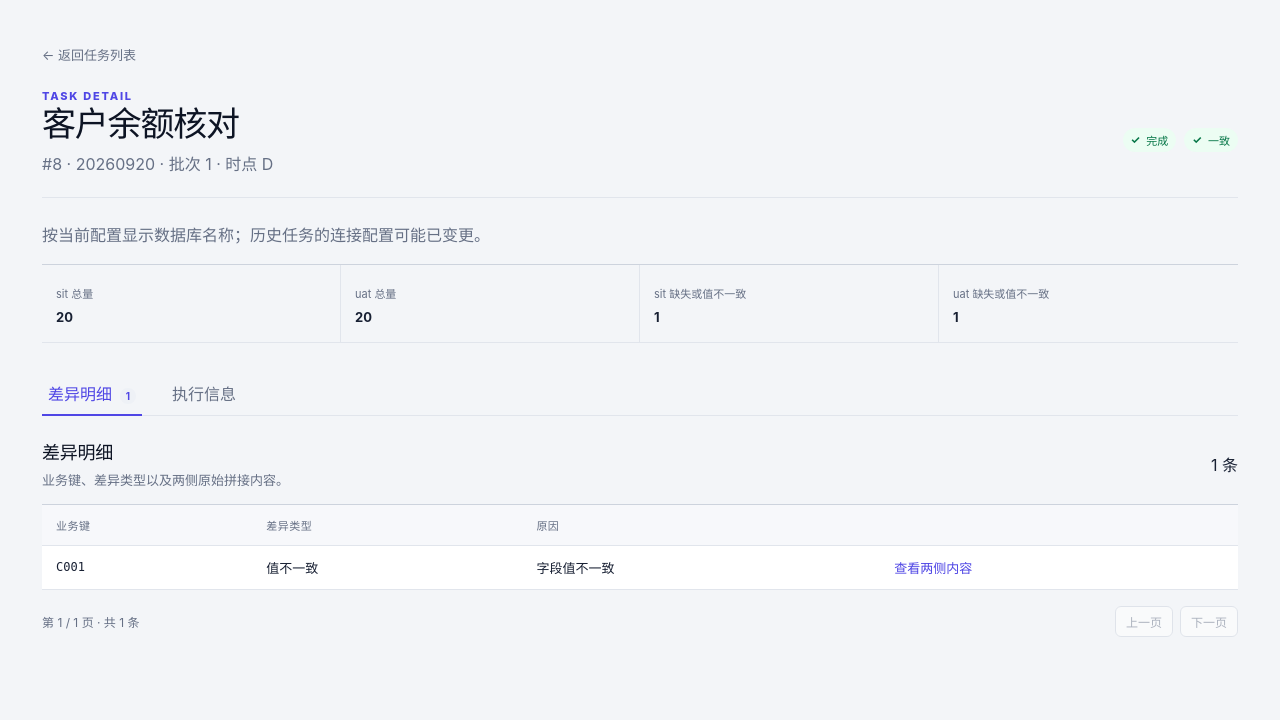
it: shows mapped difference result and expands original values
The width and height of the screenshot is (1280, 720).
Expected: the text "值不一致" is shown, [266,560,318,576]
Click the button "查看两侧内容" at (933, 567), box [894,558,972,577]
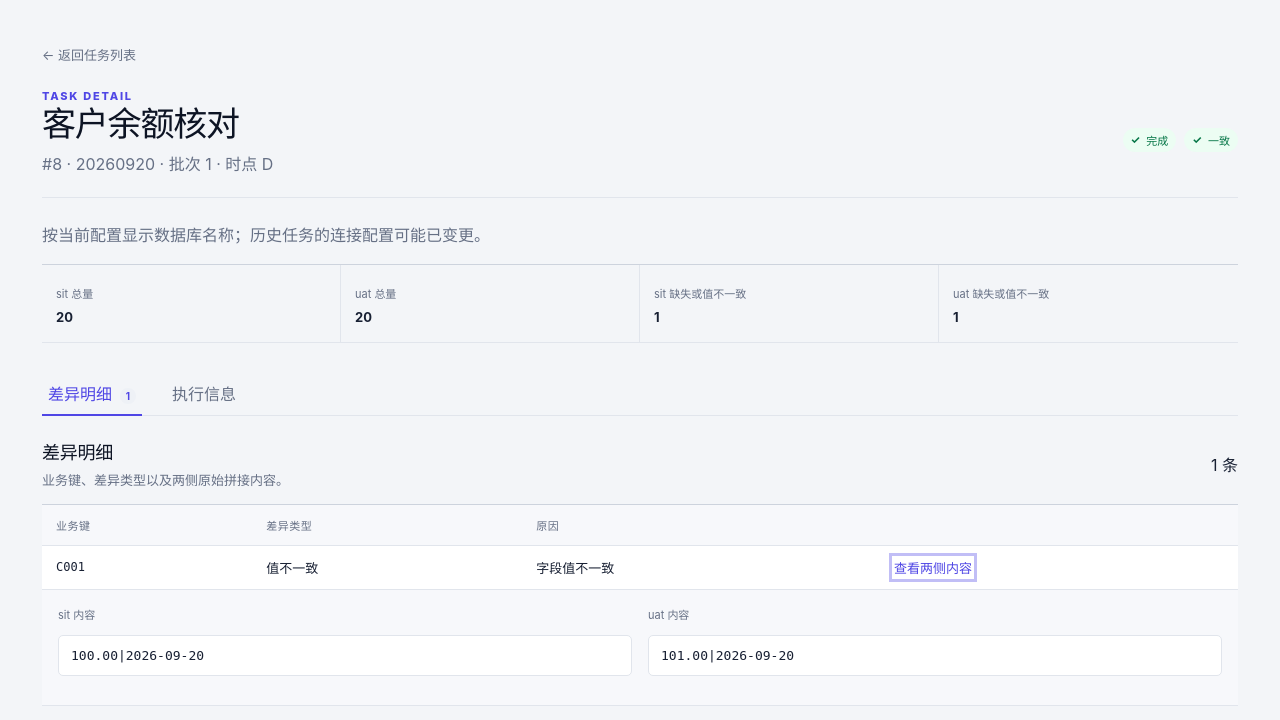
Now the text "100.00|2026-09-20" is shown, box [58,635,632,676]
Now the text "101.00|2026-09-20" is shown, box [648,635,1222,676]
